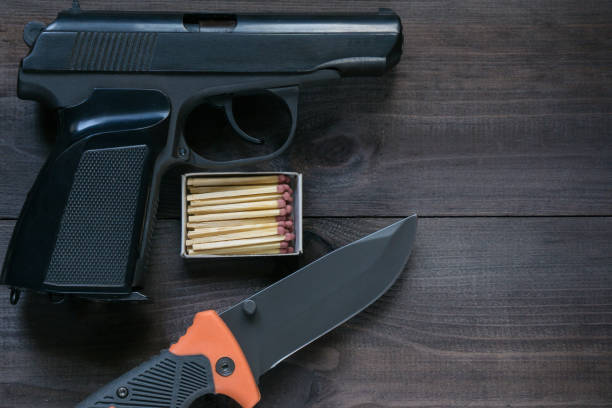gun: (19, 2, 405, 308)
knife: (70, 215, 417, 408)
